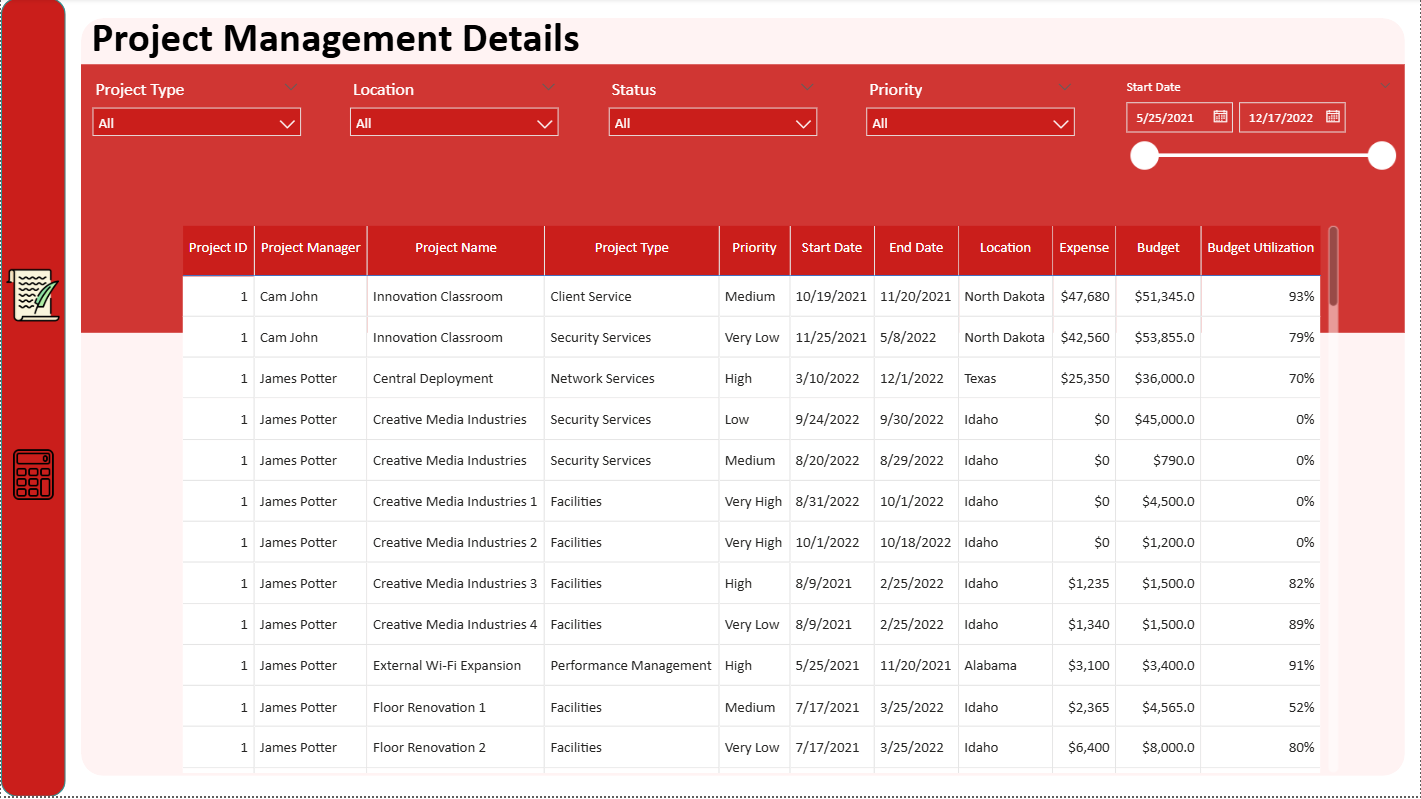

Layout of this report page (visuals, bound fields, positions):
{"tool":"powerbi","page":{"name":"Table","canvas":[1280,720],"ordinal":1},"visuals":[{"type":"shape","box":[72,18.4,1193.9,683.5],"z":0},{"type":"shape","box":[0,0,58.2,720.3],"z":1000},{"type":"image","box":[0,393.8,58.7,72.1],"z":2000},{"type":"image","box":[0,234.8,57.5,67.3],"z":3000},{"type":"textbox","box":[76.6,7.7,461.3,59.8],"z":4000},{"type":"shape","box":[72,59.8,1193.9,242.1],"z":5000},{"type":"tableEx","fields":{"Values":["Projects.Project ID","Projects.Project Manager","Projects.Project Name","Projects.Project Type","Projects.Priority ","Projects.Start Date","Projects.End Date","Projects.Location","Projects.Expense","Projects.Budget","Projects.Budget Utilization"]},"box":[157.9,200.8,1052.9,502.7],"z":6000},{"type":"slicer","fields":{"Values":["Projects.Project Type"]},"box":[72,67.4,208.4,81.2],"z":7000},{"type":"slicer","fields":{"Values":["Projects.Location"]},"box":[304.6,67.4,208.4,81.2],"z":8000},{"type":"slicer","fields":{"Values":["Projects.Status"]},"box":[537.2,67.4,208.4,81.2],"z":9000},{"type":"slicer","fields":{"Values":["Projects.Priority "]},"box":[769.7,67.4,208.4,81.2],"z":10000},{"type":"slicer","fields":{"Values":["Projects.Start Date"]},"box":[1002.3,67.4,263.6,88.9],"z":11000}]}

Visuals, with their boxes on the page's 1280x720 design canvas (x1, y1, x2, y2). These are canvas units, not pixel positions in the 1421x799 screenshot, which may show the page scaled, cropped or inside an application window:
shape: (72,18,1266,702)
shape: (0,0,58,720)
image: (0,394,59,466)
image: (0,235,58,302)
textbox: (77,8,538,68)
shape: (72,60,1266,302)
tableEx - Projects.Project ID x Projects.Project Manager: (158,201,1211,704)
slicer - Projects.Project Type: (72,67,280,149)
slicer - Projects.Location: (305,67,513,149)
slicer - Projects.Status: (537,67,746,149)
slicer - Projects.Priority : (770,67,978,149)
slicer - Projects.Start Date: (1002,67,1266,156)
